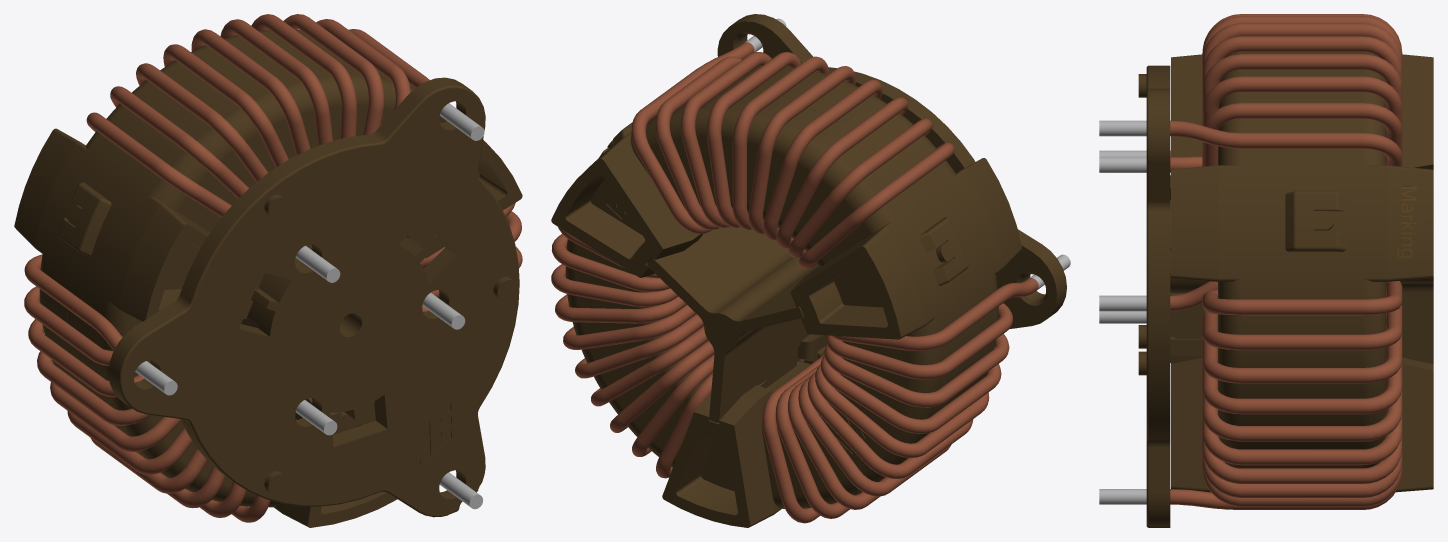
The model's file is We-TPB HV Three Phase common Mode Power Line Choke.gltf.
3 renders of one model, left to right at view 1: azimuth 30°, elevation 25°; view 2: azimuth 150°, elevation 25°; view 3: azimuth 270°, elevation 25°, orthographic. The views are drawn at different scales.
Parts seen in each view (by area): view 1: Base, Case 1, Core001, Core002, Case 2, Core; view 2: Case 2, Core001, Core002, Core, Spacer, Case 1, Base; view 3: Case 1, Core, Case 2, Core001, Base, Spacer, Core002.
Part boxes in pixels (bbox=[...]): Base: bbox=[108, 77, 519, 517]; Case 1: bbox=[67, 49, 522, 527]; Core001: bbox=[86, 14, 484, 282]; Core002: bbox=[24, 254, 337, 522]; Case 2: bbox=[14, 29, 325, 383]; Core: bbox=[373, 203, 522, 509]; Case 2: bbox=[551, 92, 962, 527]; Core001: bbox=[631, 18, 954, 269]; Core002: bbox=[762, 254, 1070, 523]; Core: bbox=[551, 227, 714, 478]; Spacer: bbox=[647, 227, 818, 422]; Case 1: bbox=[607, 66, 1022, 401]; Base: bbox=[717, 14, 1066, 361]; Case 1: bbox=[1171, 52, 1333, 492]; Core: bbox=[1099, 281, 1402, 509]; Case 2: bbox=[1314, 52, 1433, 492]; Core001: bbox=[1099, 14, 1402, 172]; Base: bbox=[1138, 65, 1209, 527]; Spacer: bbox=[1170, 200, 1433, 364]; Core002: bbox=[1099, 150, 1170, 323].
Size of the model in its own units: 0.0655 by 0.0623 by 0.0425.
